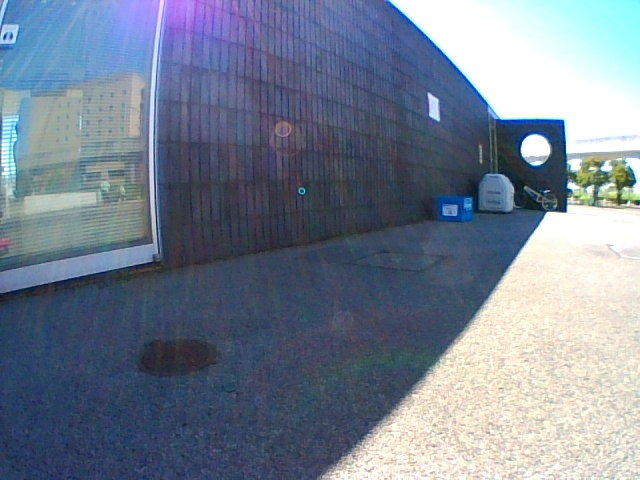blue_box: (438, 197, 473, 223)
tag: (443, 204, 457, 216)
